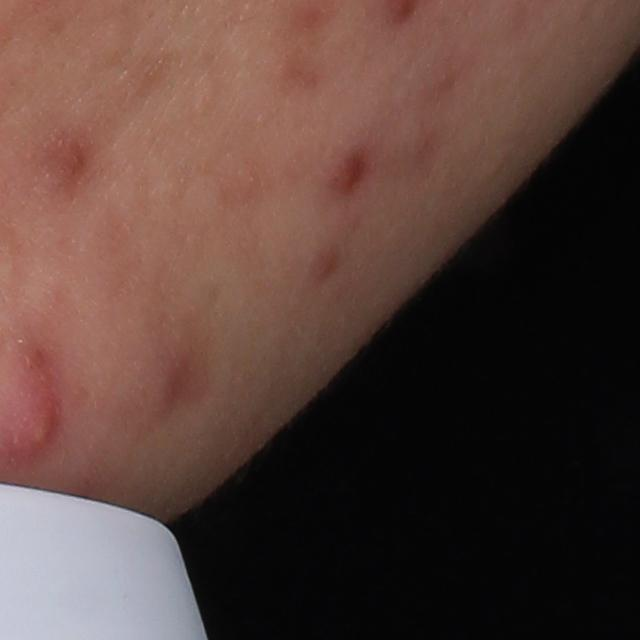papule: (326, 148, 368, 199)
